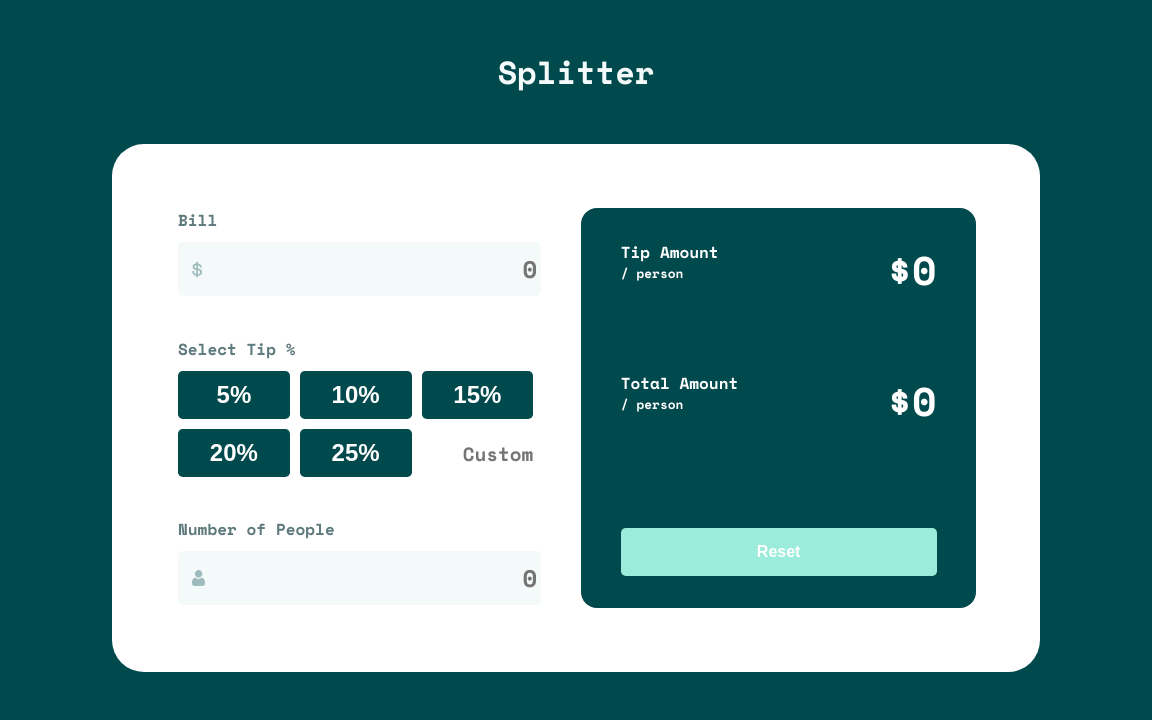
it: Tip Calculator › should return the correct total tip per person
Type "10" into the number field with test id "customInput-cy-btn" at (478, 453), box [422,429,534,477]
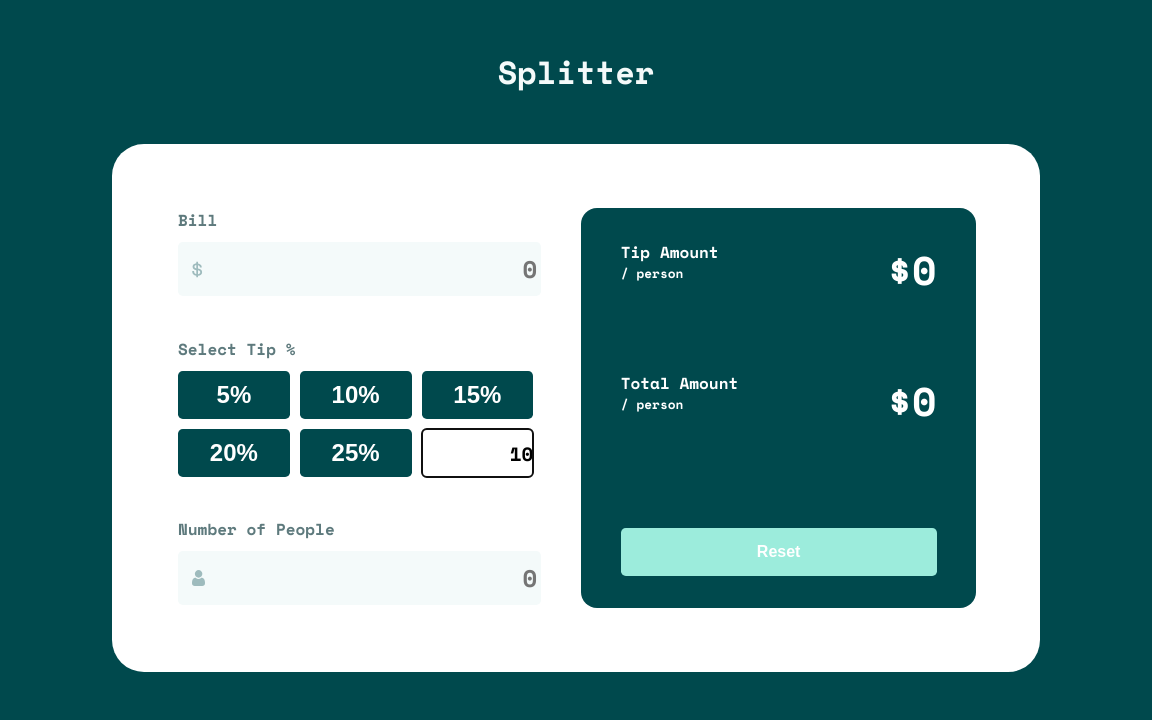
Type "100" into the number field with placeholder "0" below "Bill" at (360, 269), box [178,242,541,296]
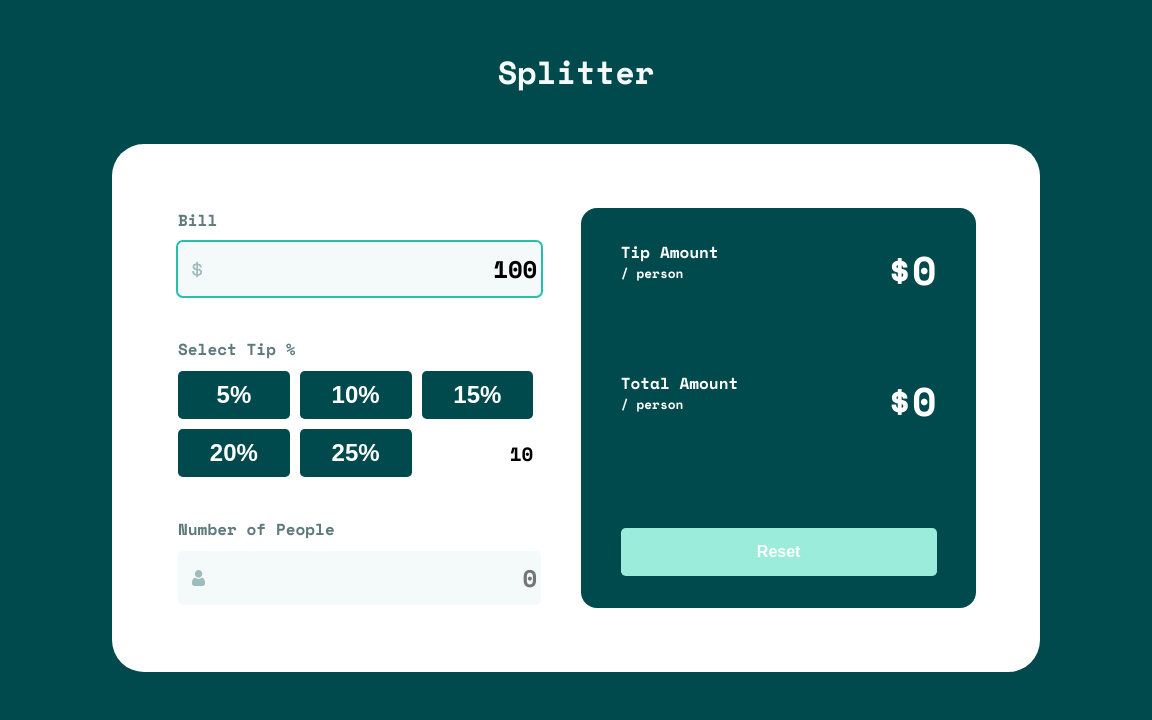
Type "2" into the number field with placeholder "0" at (360, 578), box [178,551,541,605]
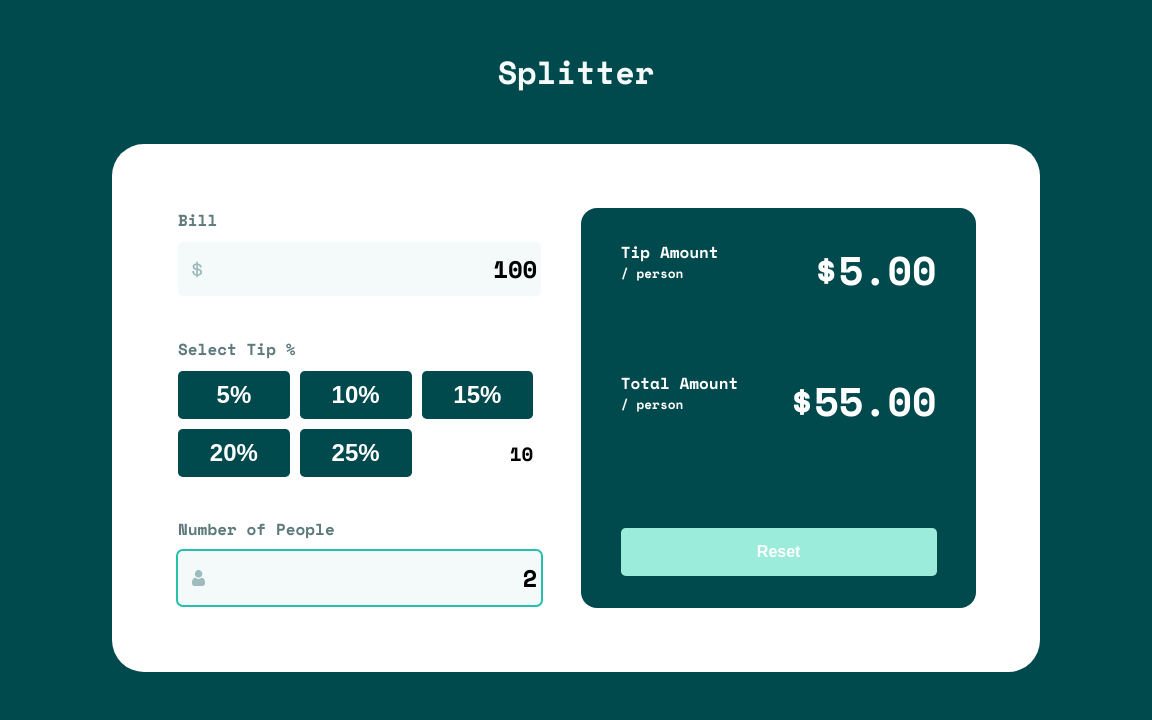
Check: the text with test id "tip-info-value" shows "$5.0", box [814,240,936,299]
Check: the text with test id "tip-info-value" shows "$55.0", box [790,371,937,430]
